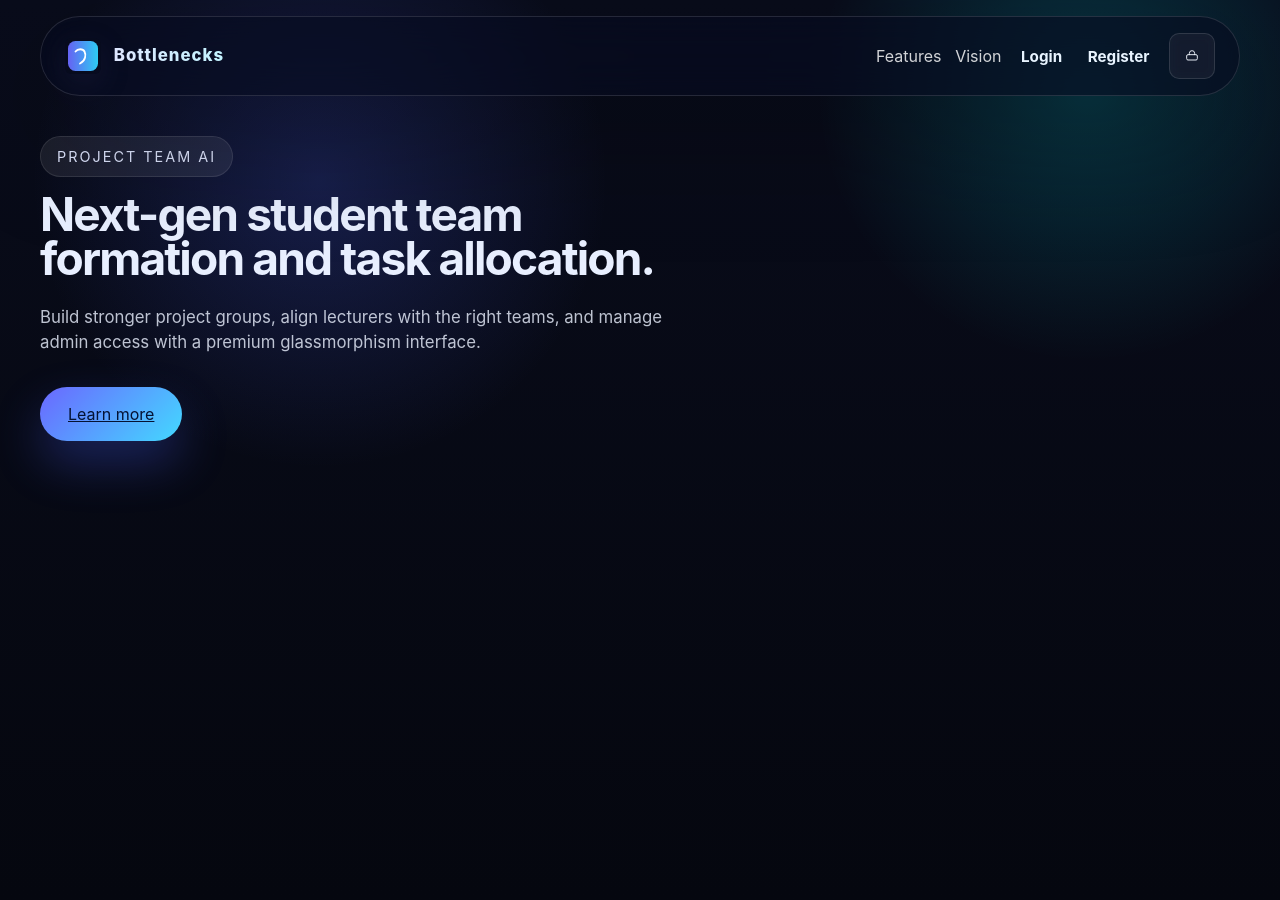
Scenario: App – login modal › closes modal when close button is clicked
Click the button labelled "Login" at {"x": 1042, "y": 56}, box [1015,43,1068,69]
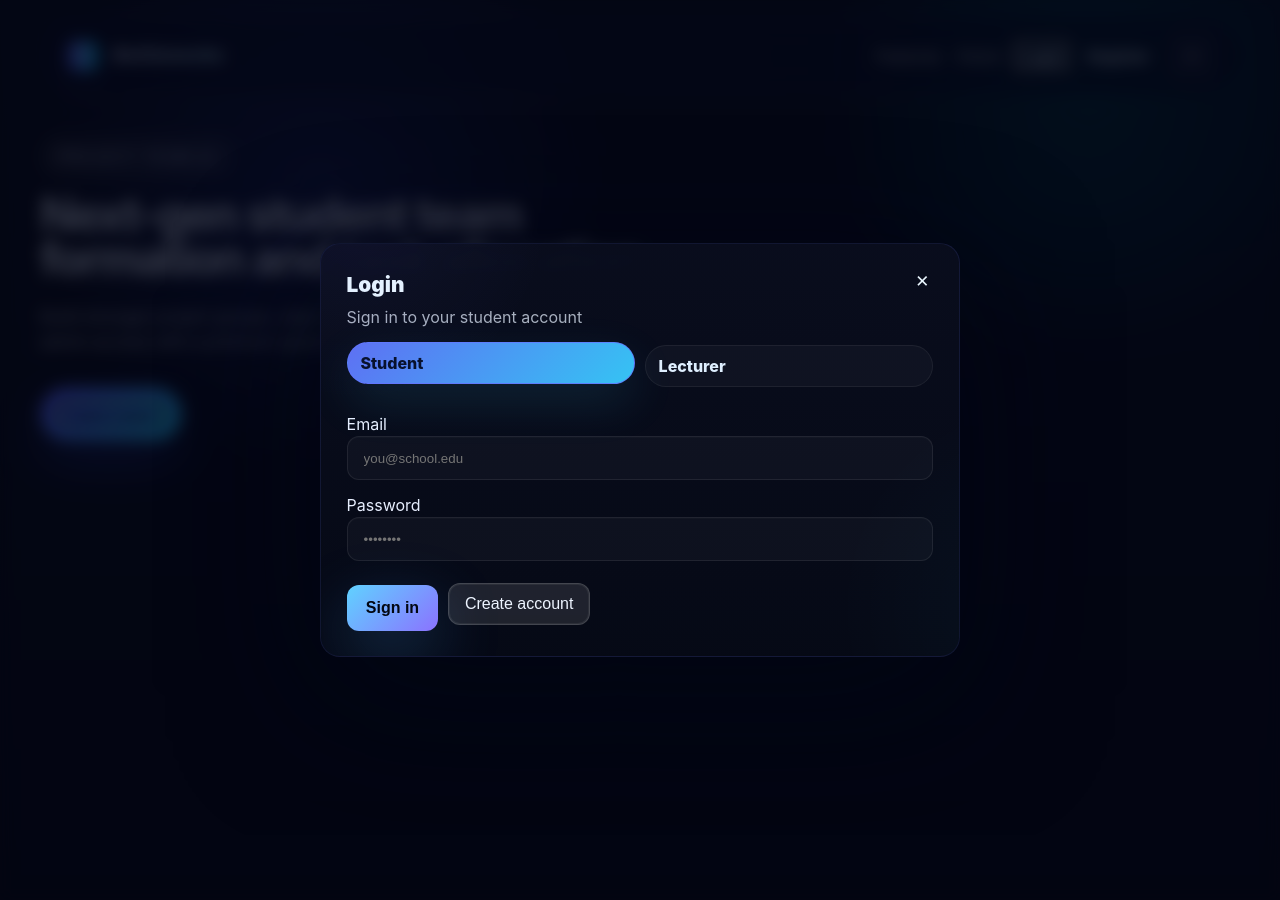
expect the dialog is shown: met, box [320,243,960,657]
Click the button named "Close" at {"x": 922, "y": 282}, box [906,264,939,299]
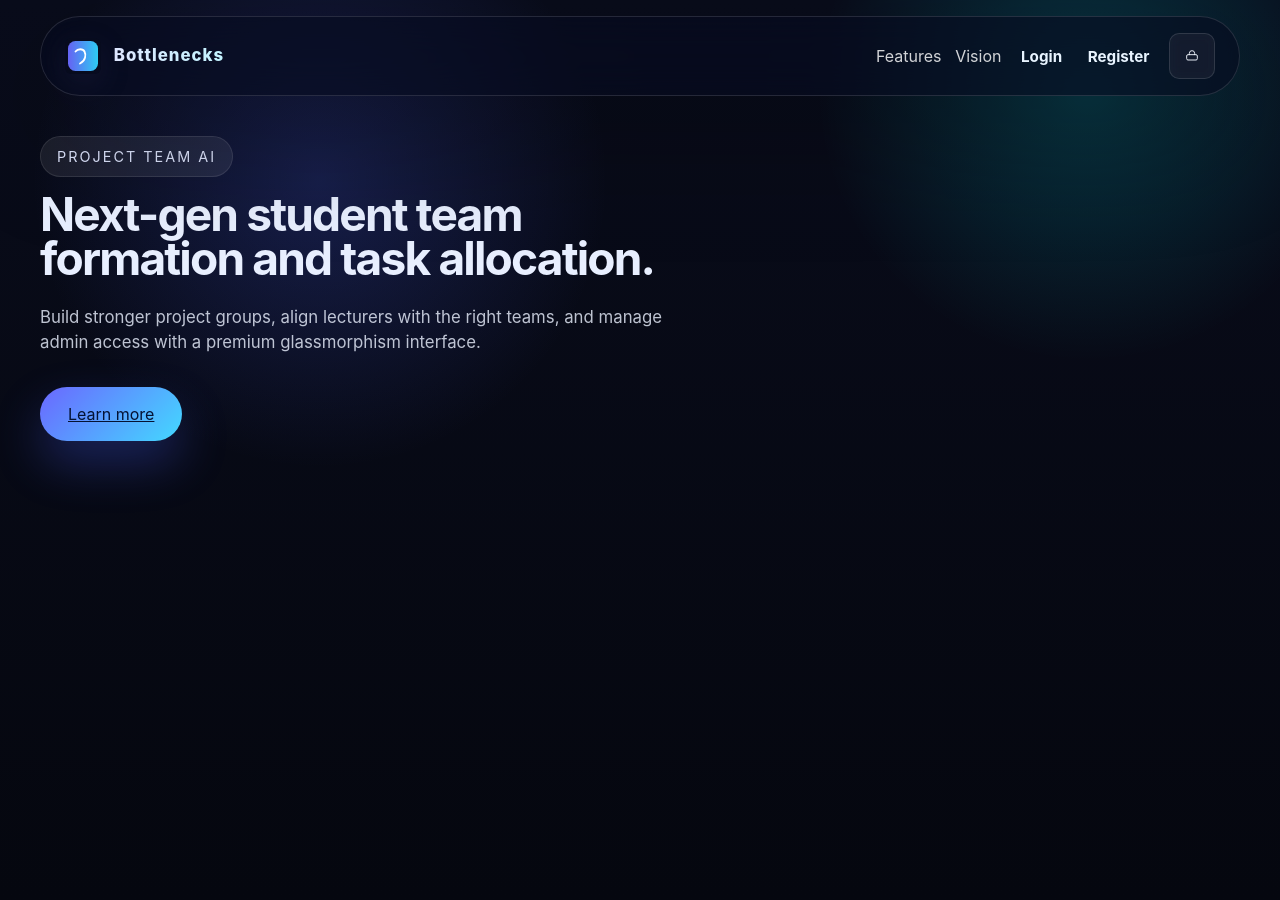
expect the dialog is gone: met
